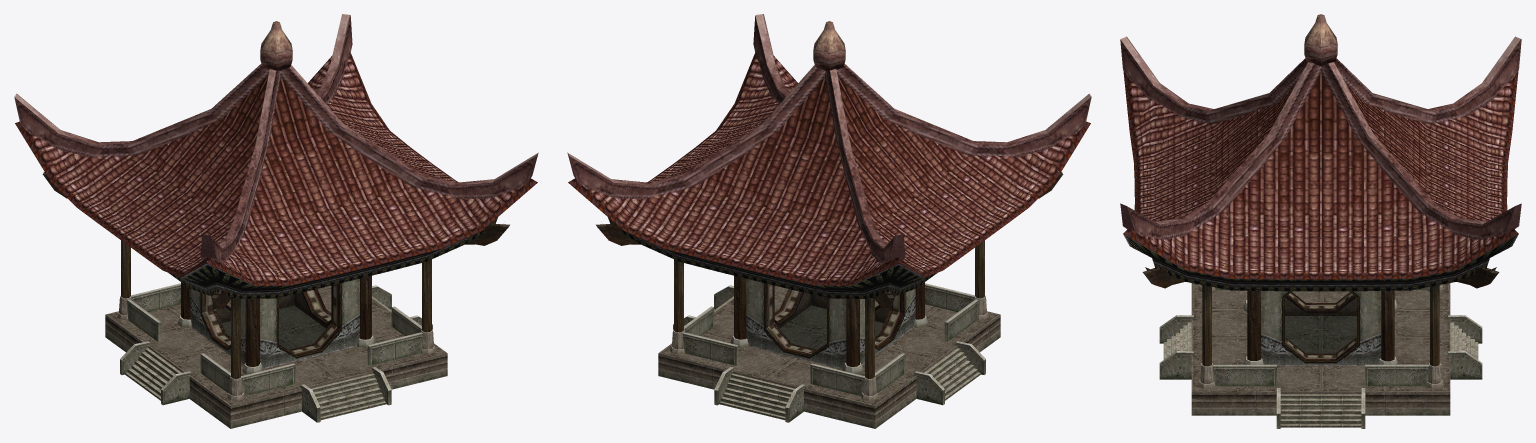
The picture shows the model from 3 angles, left to right: view 1: azimuth 30°, elevation 25°; view 2: azimuth 150°, elevation 25°; view 3: azimuth 270°, elevation 25°; orthographic projection. The views are drawn at different scales.
Parts seen in each view (by area): view 1: 017; view 2: 017; view 3: 017.
Part boxes in pixels (bbox=[...]): 017: bbox=[14, 14, 538, 428]; 017: bbox=[567, 14, 1091, 428]; 017: bbox=[1120, 14, 1521, 428].
Bounding box in the file's own units: 15.62 × 14.9 × 15.62.
Materials: 2 (2 with a texture image).
